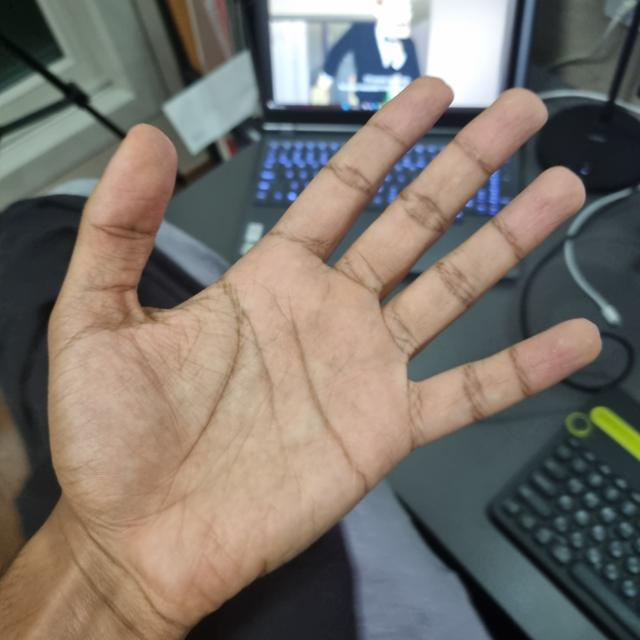Paper: (43, 76, 597, 617)
